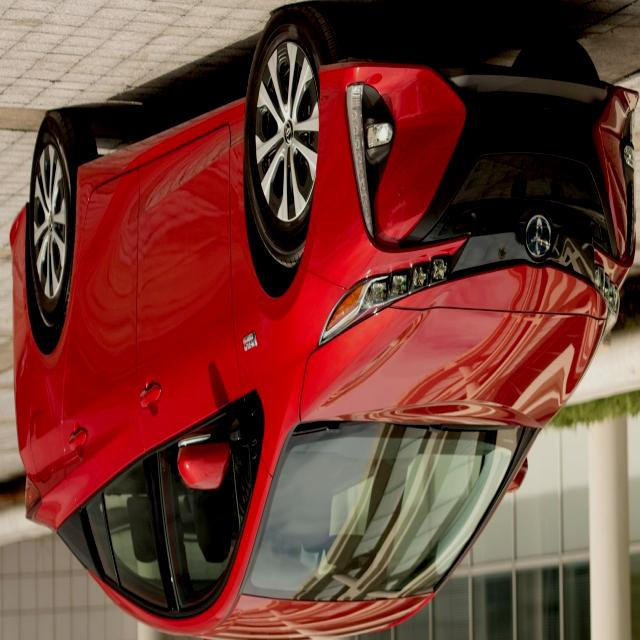red: (14, 67, 638, 638)
